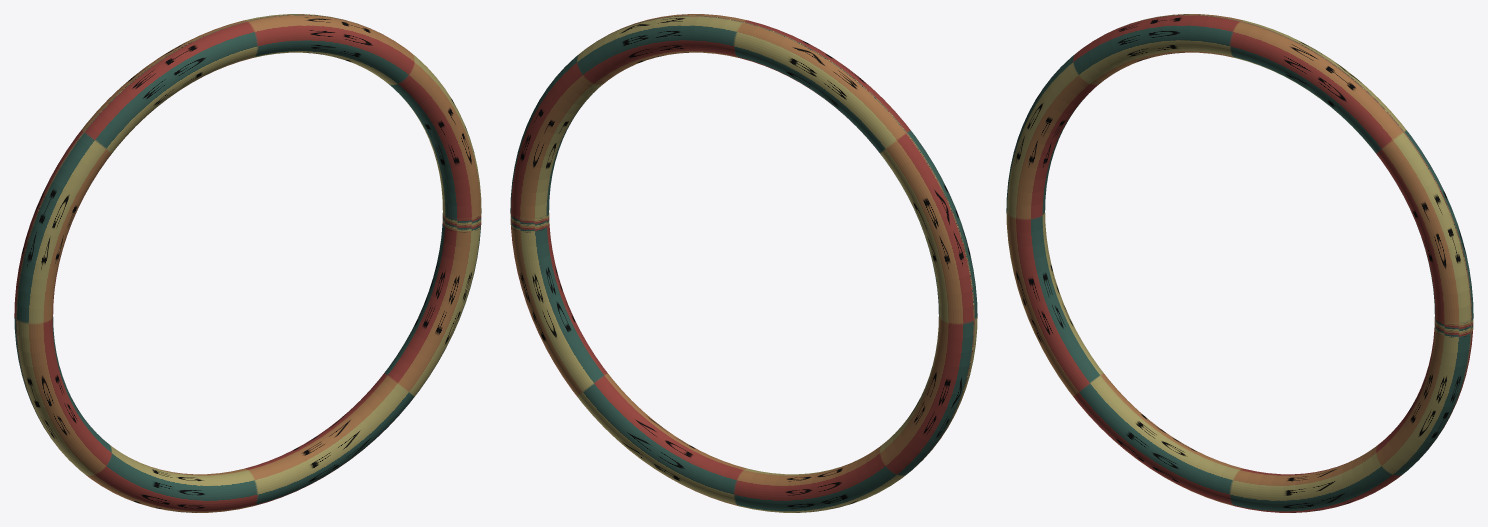
Rendered from texture_torus_R7_r0.glb.
3 views of the same model, side by side, from view 1: azimuth 30°, elevation 25°; view 2: azimuth 150°, elevation 25°; view 3: azimuth 330°, elevation 25° (orthographic).
Visible parts, largest first — view 1: world; view 2: world; view 3: world.
Part boxes in pixels (x1=…): world: x1=14, y1=14, x2=481, y2=512; world: x1=510, y1=14, x2=977, y2=512; world: x1=1006, y1=14, x2=1473, y2=512.
Bounding box in the file's own units: 27.56 × 27.56 × 2.
1 material, 1 textured.
